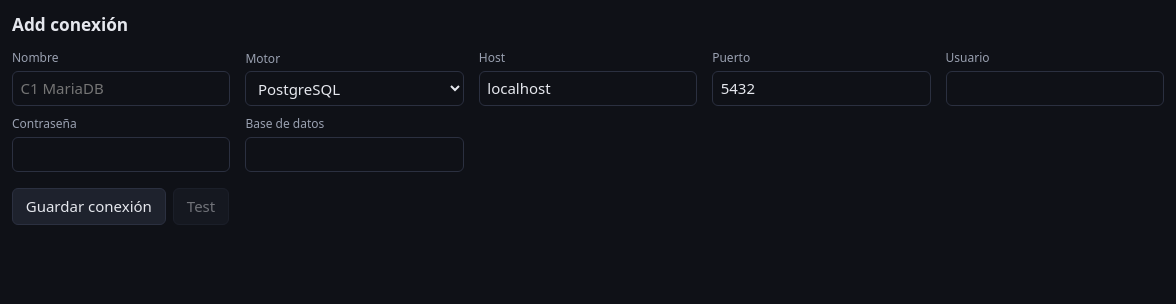
Test: avisa cuando la creación falla y no limpia lo cargado
In the field labelled "Nombre": (121, 88) [12, 71, 230, 106], type "Postgres demo"
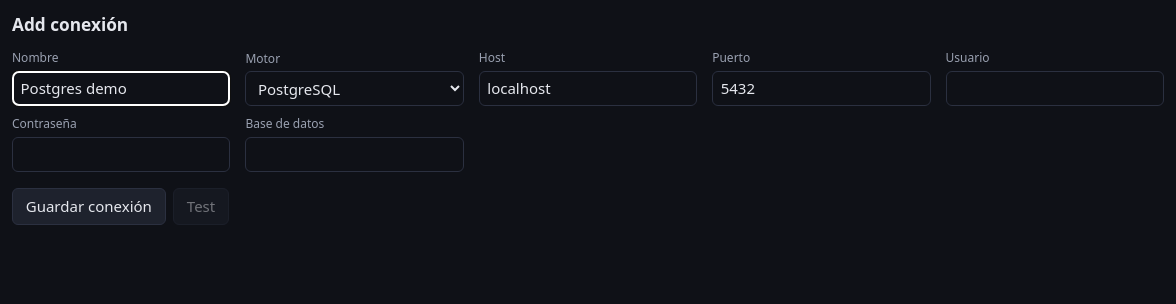
Replace the text in the field labelled "Host" with "db": (588, 88) [479, 71, 697, 106]
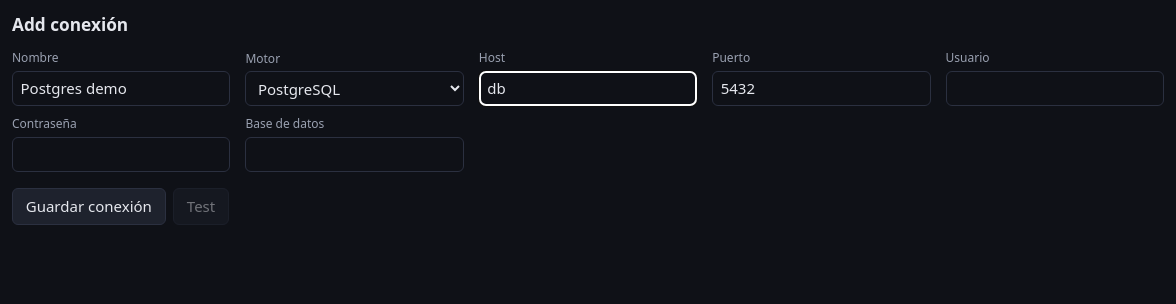
In the field labelled "Usuario": (1055, 88) [946, 71, 1164, 106], type "loguser"
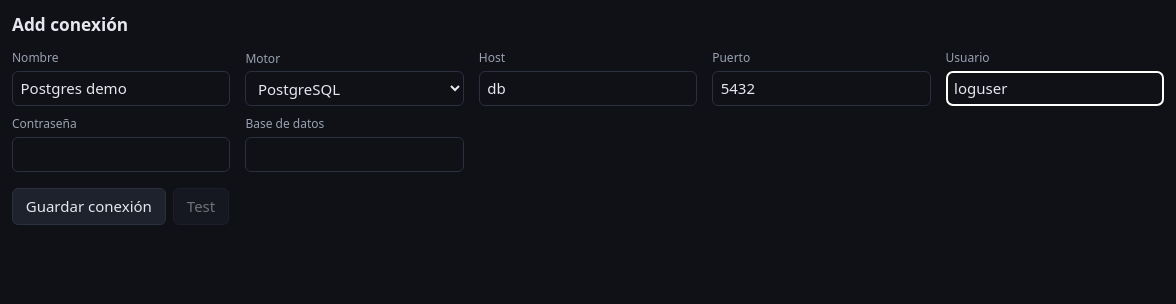
In the password field labelled "Contraseña": (121, 154) [12, 137, 230, 172], type "logpass"
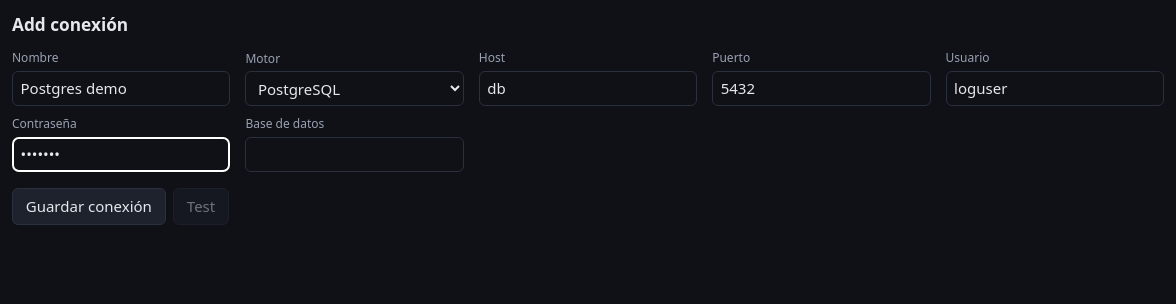
In the field labelled "Base de datos": (355, 154) [245, 137, 464, 172], type "logdb"
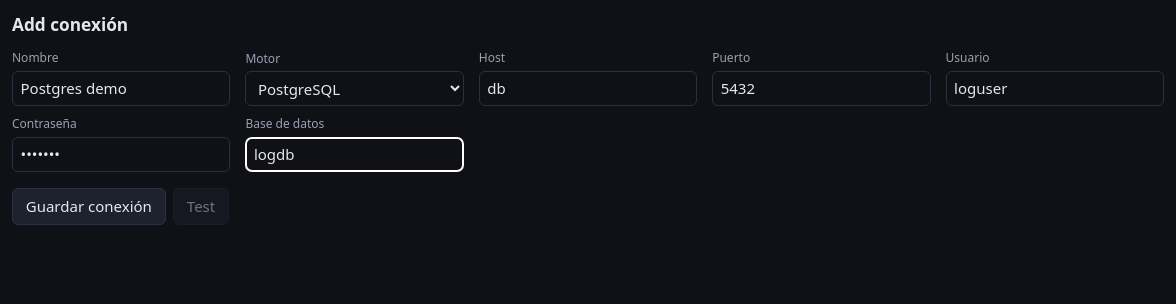
Click the button "Guardar conexión": (89, 206) [12, 188, 166, 225]
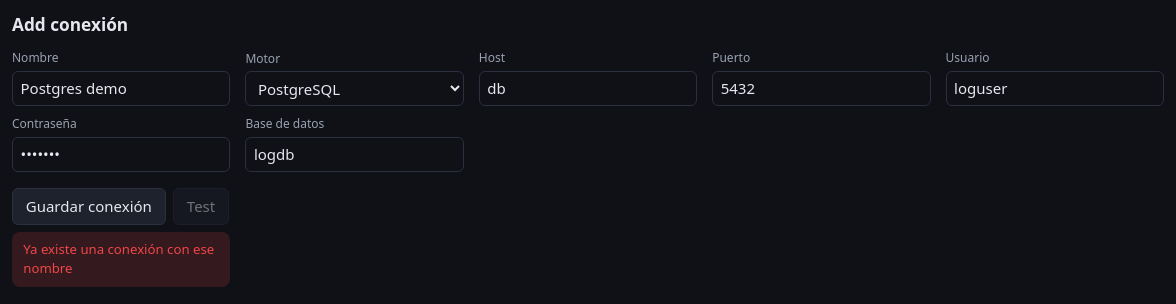
Expected: the text "Ya existe una conexión con ese nombre" is shown, [12, 232, 230, 287]
